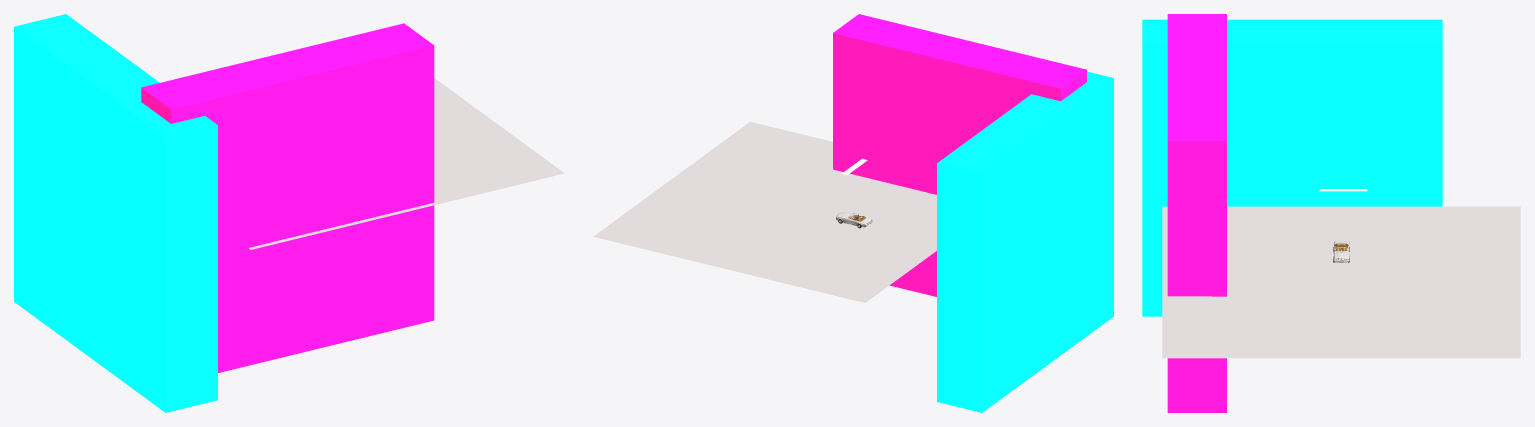
File: ford_mustang_gt_1968_opt.glb
The picture shows the model from 3 angles, left to right: view 1: azimuth 30°, elevation 25°; view 2: azimuth 150°, elevation 25°; view 3: azimuth 270°, elevation 25°; orthographic projection. The views are drawn at different scales.
Visible parts, largest first — view 1: Cube.002_56, Cube.001_55, Plane.006_10; view 2: Cube.001_55, Plane.006_10, Cube.002_56; view 3: Plane.006_10, Cube.001_55, Cube.002_56.
Boxes of the visible parts, bbox=[...] form: Cube.002_56: bbox=[141, 23, 434, 372]; Cube.001_55: bbox=[14, 14, 217, 412]; Plane.006_10: bbox=[249, 78, 564, 249]; Cube.001_55: bbox=[937, 71, 1113, 412]; Plane.006_10: bbox=[593, 121, 936, 302]; Cube.002_56: bbox=[833, 14, 1086, 296]; Plane.006_10: bbox=[1162, 206, 1520, 358]; Cube.001_55: bbox=[1142, 19, 1442, 316]; Cube.002_56: bbox=[1167, 14, 1226, 412].
Bounding box in the file's own units: 39.3 × 26.59 × 31.82.
